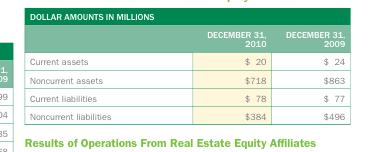table: (29, 28, 344, 121)
table column: (29, 28, 158, 121), (158, 28, 275, 121), (275, 28, 344, 121)
table column header: (29, 28, 344, 52)
table row: (29, 28, 344, 52), (29, 52, 344, 70), (29, 70, 344, 88), (29, 88, 344, 106), (29, 106, 344, 121)
